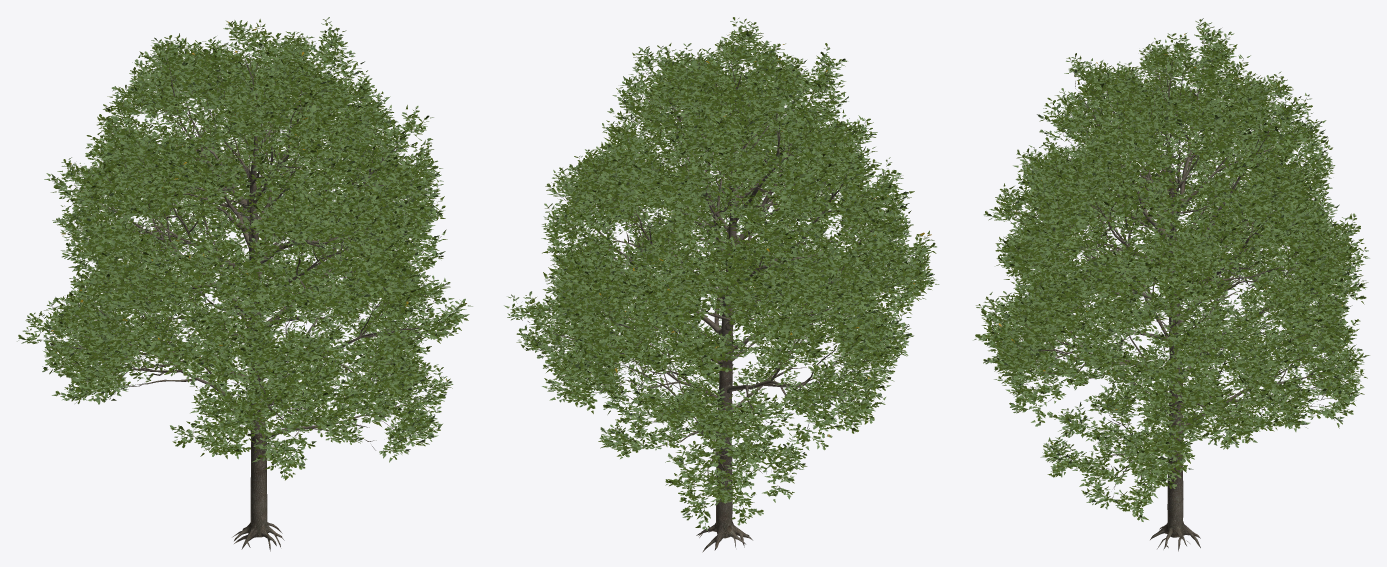
File: quercus-robur-urban-ld-s71-proof.glb
3 renders of one model, left to right at view 1: azimuth 30°, elevation 25°; view 2: azimuth 150°, elevation 25°; view 3: azimuth 270°, elevation 25°, orthographic. The views are drawn at different scales.
Parts seen in each view (by area): view 1: ForestPlantCatalog_quercus-robur-urban-ld-s71; view 2: ForestPlantCatalog_quercus-robur-urban-ld-s71; view 3: ForestPlantCatalog_quercus-robur-urban-ld-s71.
Boxes of the visible parts, x1=… form: ForestPlantCatalog_quercus-robur-urban-ld-s71: x1=17, y1=17, x2=472, y2=551; ForestPlantCatalog_quercus-robur-urban-ld-s71: x1=504, y1=17, x2=939, y2=552; ForestPlantCatalog_quercus-robur-urban-ld-s71: x1=973, y1=18, x2=1369, y2=551.
Bounding box in the file's own units: 9.29 × 12 × 8.66.
13 materials, 13 textured.
